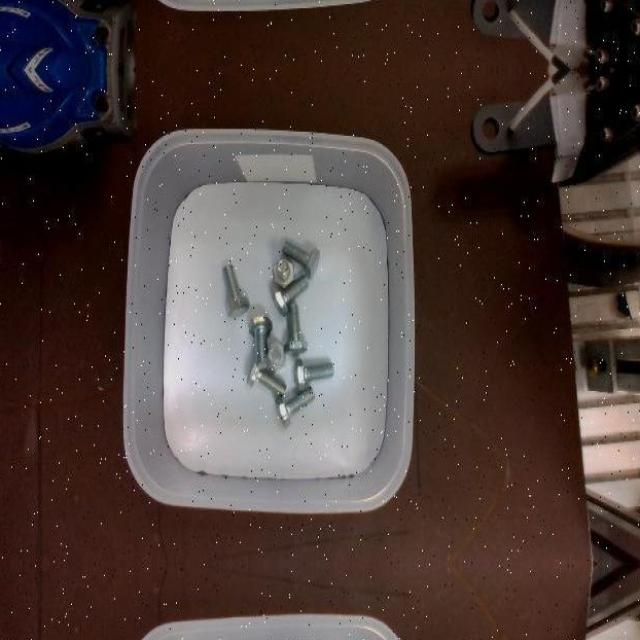screw: (275, 386, 316, 427), (272, 274, 310, 316), (221, 263, 250, 317), (282, 240, 321, 279), (284, 303, 309, 356), (249, 315, 273, 368), (294, 357, 334, 388), (273, 258, 294, 289)
